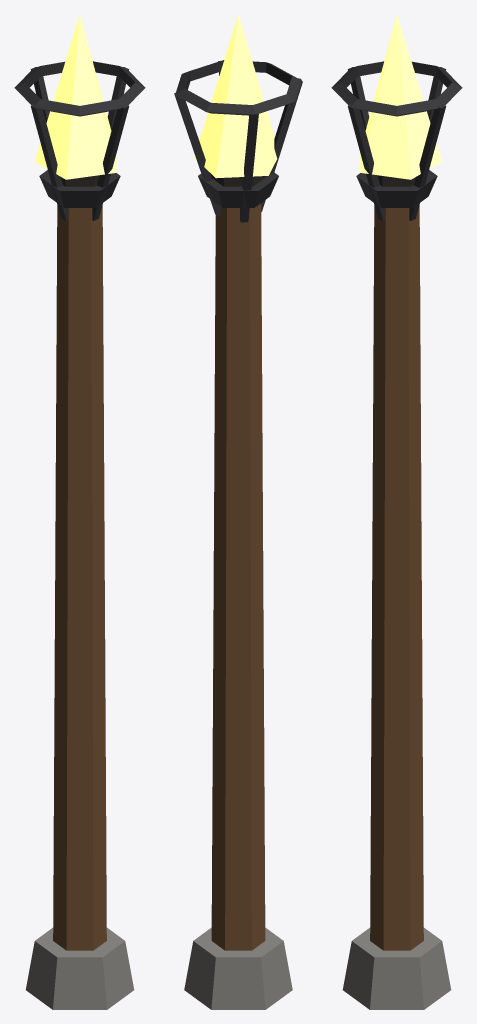
The model's file is grove_torch.gltf.
3 views of the same model, side by side, from view 1: azimuth 90°, elevation 25°; view 2: azimuth 150°, elevation 25°; view 3: azimuth 270°, elevation 25° (orthographic).
Parts seen in each view (by area): view 1: grove_torch; view 2: grove_torch; view 3: grove_torch.
Boxes of the visible parts, <box> form: grove_torch: <box>14,15,145,1009</box>; grove_torch: <box>174,14,302,1009</box>; grove_torch: <box>331,15,462,1009</box>.
Size of the model in its own units: 0.29 by 2.38 by 0.29.
